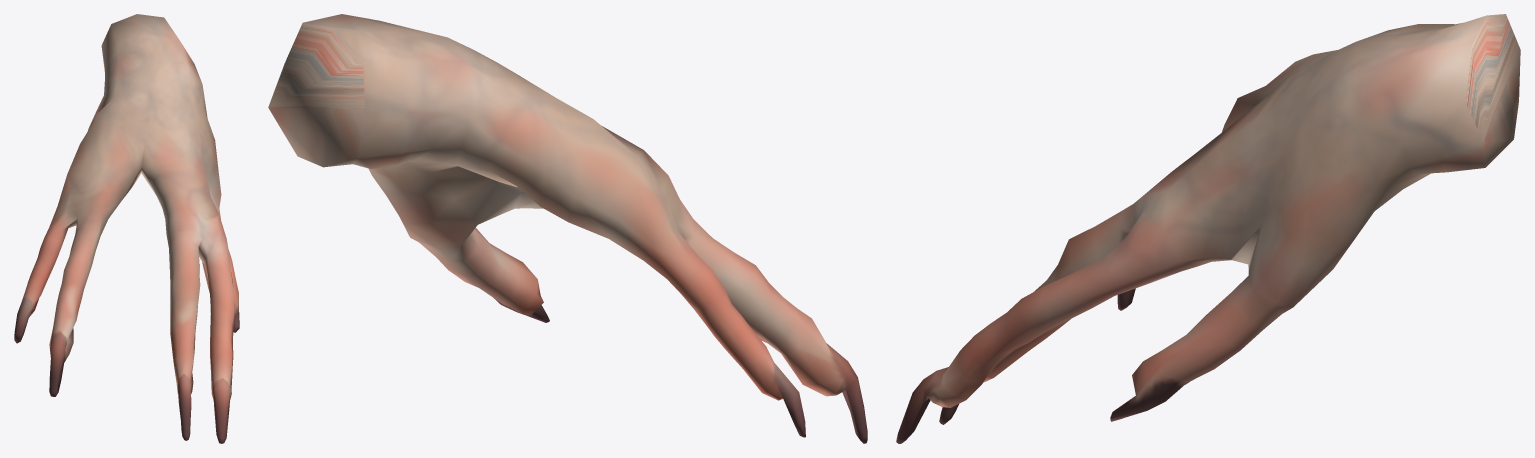
File: HandR.fbx
3 views of the same model, side by side, from view 1: azimuth 30°, elevation 25°; view 2: azimuth 150°, elevation 25°; view 3: azimuth 270°, elevation 25° (orthographic). The views are drawn at different scales.
Visible parts, largest first — view 1: UmeriCraci_low.002; view 2: UmeriCraci_low.002; view 3: UmeriCraci_low.002.
Part boxes in pixels (box(x1,y1,x2,y2)): UmeriCraci_low.002: box(14, 14, 239, 443); UmeriCraci_low.002: box(268, 14, 867, 443); UmeriCraci_low.002: box(896, 14, 1520, 443).
Size of the model in its own units: 34.51 by 41.11 by 46.6.
